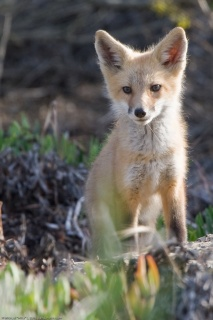Fox: (81, 25, 189, 260)
